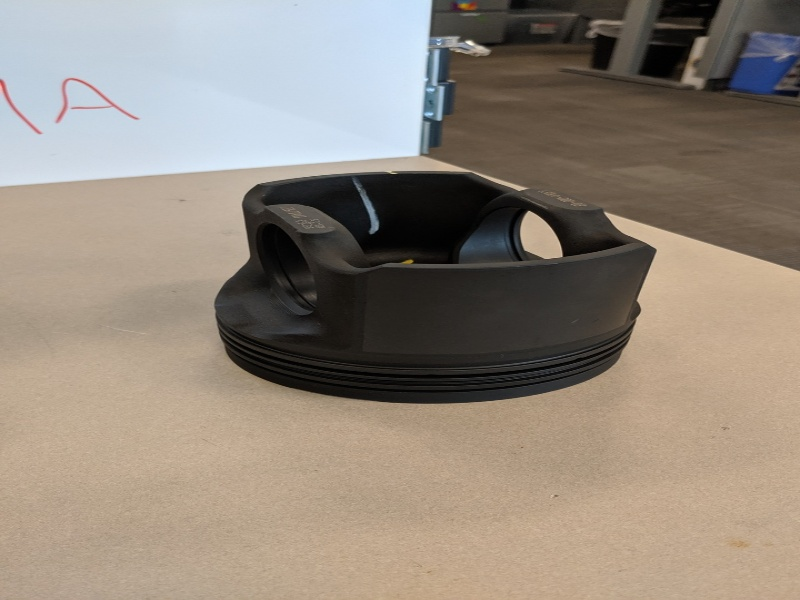piston: (210, 163, 663, 410)
